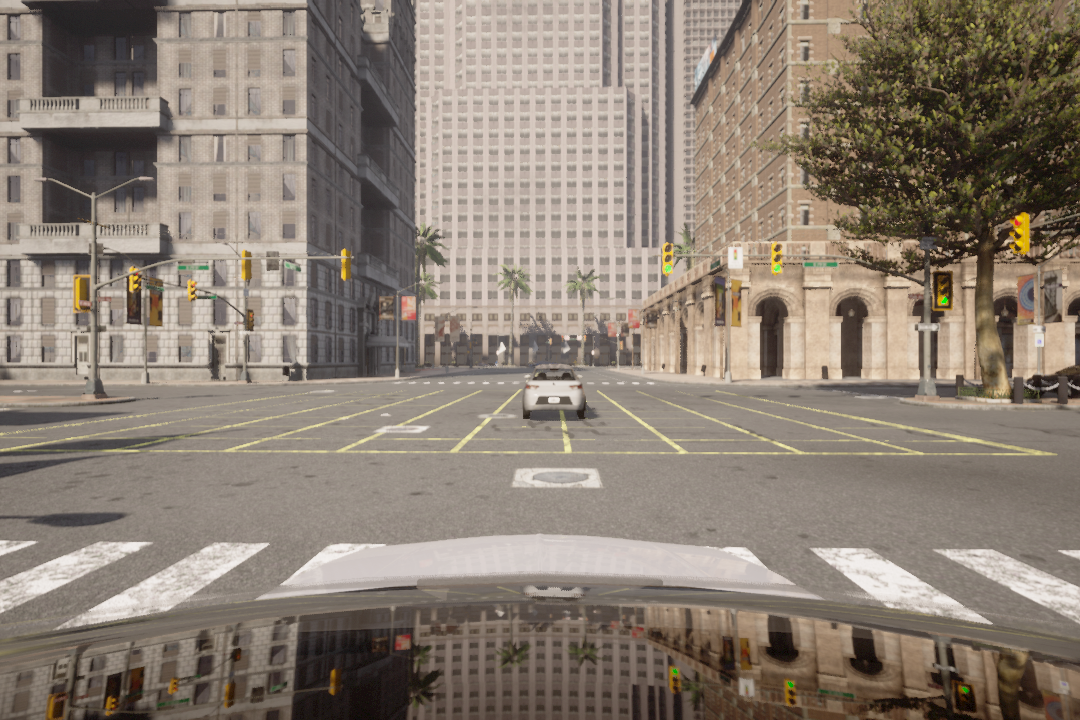TrafficLight: (1010, 211, 1033, 257), (657, 241, 683, 279), (934, 272, 953, 314), (769, 240, 785, 274), (129, 266, 141, 294), (187, 278, 198, 307)
